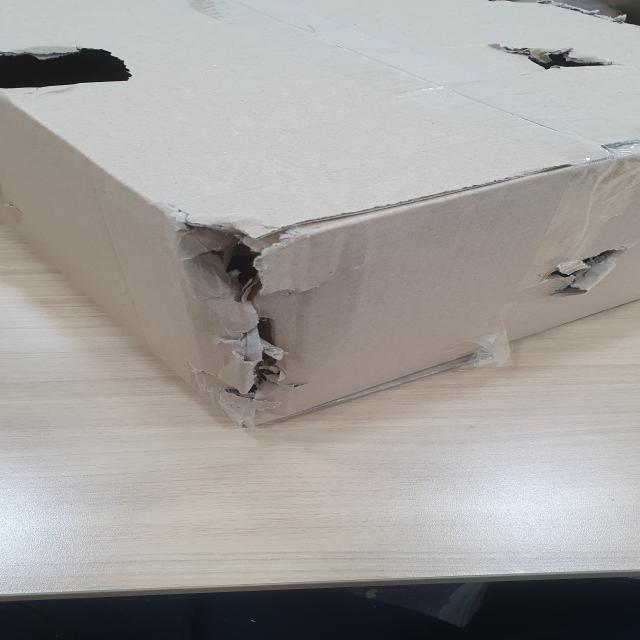hole: (170, 213, 320, 411), (0, 39, 134, 97), (465, 34, 623, 76), (536, 246, 628, 307)
